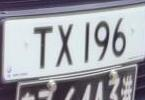1: (79, 16, 94, 69)
6: (110, 13, 130, 59)
9: (92, 16, 112, 66)
T: (30, 20, 56, 73)
X: (54, 17, 77, 72)
